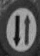Two way: (3, 2, 33, 51)
